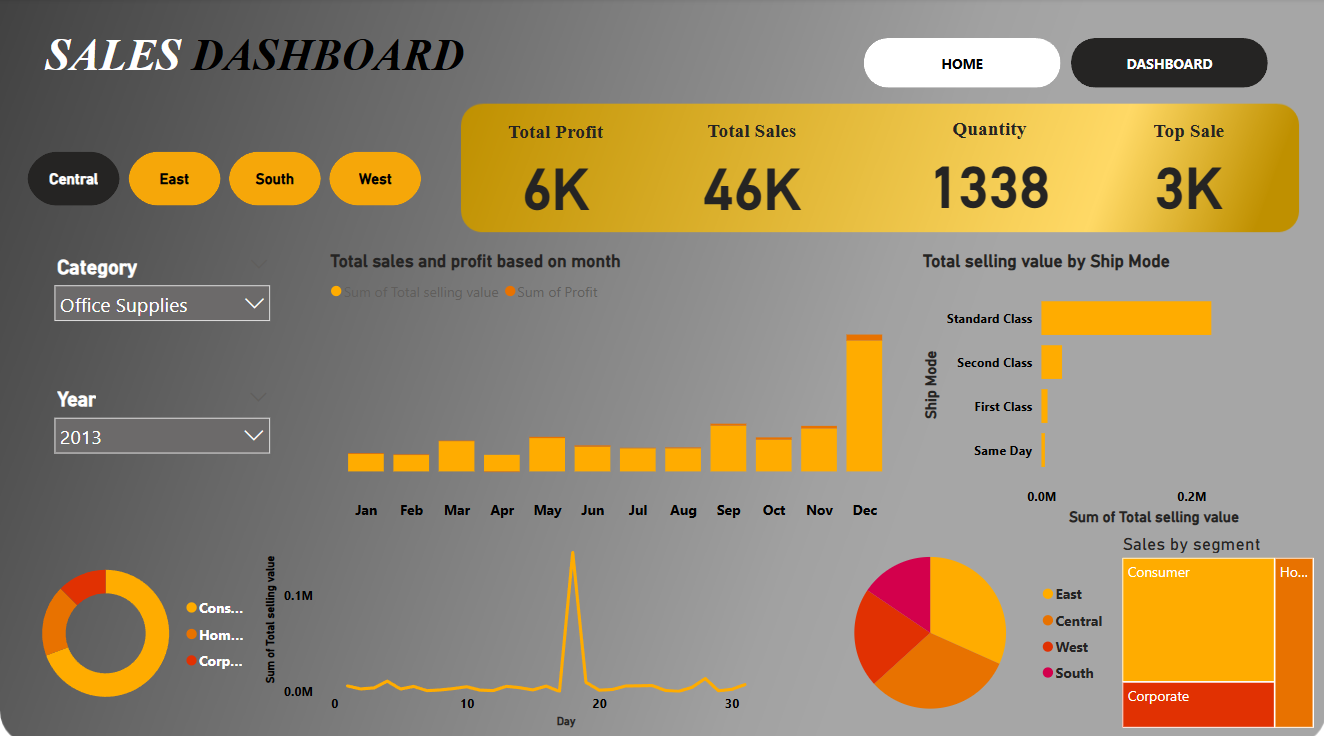

The dashboard page shown, as its layout file describes it:
{"tool":"powerbi","page":{"name":"DASHBOARD","canvas":[1280,720],"ordinal":1},"visuals":[{"type":"card","title":"Total Profit","fields":{"Values":["Sum(Database.Profit)"]},"box":[454.8,118.2,162.9,98.9],"z":0},{"type":"card","title":"Total Sales","fields":{"Values":["Sum(Database.Sales)"]},"box":[617.7,117,216,100.1],"z":1000},{"type":"slicer","fields":{"Values":["Database.Category"]},"box":[42.8,243.3,228.7,86.8],"z":2000},{"type":"advancedSlicerVisual","fields":{"Values":["Database.Region"]},"box":[22,143.1,390.1,62.4],"z":3000},{"type":"card","title":"Quantity","fields":{"Values":["Sum(Database.Quantity)"]},"box":[845.7,115.8,218.4,100.1],"z":4000},{"type":"card","title":"Top Sale","fields":{"Values":["Sum(Database.Profit)"]},"box":[1052,117,190.6,98.9],"z":5000},{"type":"columnChart","title":"Total sales and profit based on month","fields":{"Category":["Database.Month"],"Y":["Sum(Database.Total selling value)","Sum(Database.Profit)"]},"box":[313.7,243.7,561,270.2],"z":6000},{"type":"clusteredBarChart","title":"Total selling value by Ship Mode","fields":{"Y":["Sum(Database.Total selling value)"],"Category":["Database.Ship Mode"]},"box":[885.5,243.7,357.1,270.2],"z":7000},{"type":"lineChart","fields":{"Y":["Sum(Database.Total selling value)"],"Category":["Database.Day"]},"box":[250.9,516.4,534.5,193],"z":8000},{"type":"donutChart","fields":{"Y":["Sum(Database.Total selling value)"],"Category":["Database.Segment"]},"box":[20.5,522.4,230.4,182.2],"z":9000},{"type":"treemap","title":"Sales by segment ","fields":{"Group":["Database.Segment"],"Values":["Sum(Database.Sales)"]},"box":[1078.6,516.4,194.2,193],"z":10000},{"type":"pieChart","fields":{"Y":["Sum(Database.Total buying values)"],"Category":["Database.Region"]},"box":[785.4,516.4,293.2,193],"z":11000},{"type":"pageNavigator","box":[834,39.1,390.1,48.9],"z":12000},{"type":"slicer","fields":{"Values":["Database.Year"]},"box":[42.2,371.6,228,86.9],"z":13000},{"type":"textbox","box":[20.5,25.3,451.2,62.7],"z":14000}]}

Visuals, with their boxes in screenshot pixels (x1, y1, x2, y2), scaled from the page's 1280x720 canvas onto the 1324x736 screenshot:
"Total Profit" card: select_region(470, 121, 639, 222)
"Total Sales" card: select_region(639, 120, 862, 222)
slicer - Database.Category: select_region(44, 249, 281, 337)
advancedSlicerVisual - Database.Region: select_region(23, 146, 426, 210)
"Quantity" card: select_region(875, 118, 1101, 221)
"Top Sale" card: select_region(1088, 120, 1285, 221)
"Total sales and profit based on month" columnChart: select_region(324, 249, 905, 525)
"Total selling value by Ship Mode" clusteredBarChart: select_region(916, 249, 1285, 525)
lineChart - Sum(Database.Total selling value) x Database.Day: select_region(260, 528, 812, 725)
donutChart - Sum(Database.Total selling value) x Database.Segment: select_region(21, 534, 260, 720)
"Sales by segment " treemap: select_region(1116, 528, 1317, 725)
pieChart - Sum(Database.Total buying values) x Database.Region: select_region(812, 528, 1116, 725)
pageNavigator: select_region(863, 40, 1266, 90)
slicer - Database.Year: select_region(44, 380, 279, 469)
textbox: select_region(21, 26, 488, 90)
